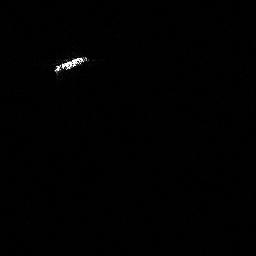ship: (52, 54, 90, 75)
